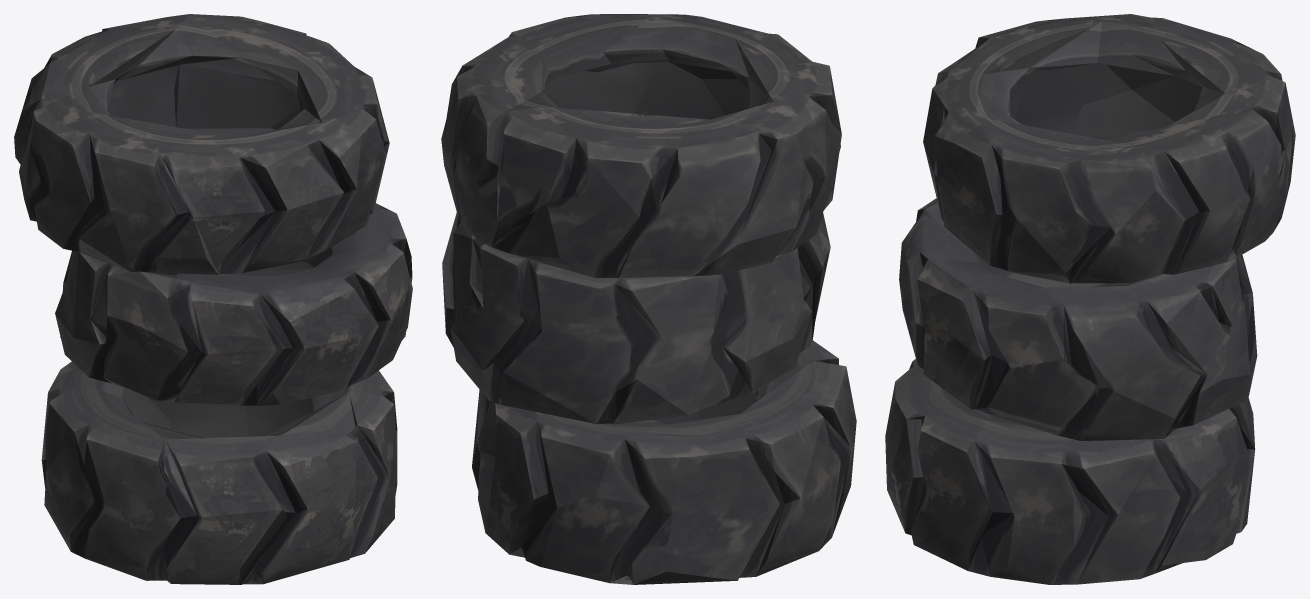
The model's file is tire_stack_1500tri.glb.
3 views of the same model, side by side, from view 1: azimuth 30°, elevation 25°; view 2: azimuth 150°, elevation 25°; view 3: azimuth 270°, elevation 25° (orthographic). The views are drawn at different scales.
Parts seen in each view (by area): view 1: output_unwrapped; view 2: output_unwrapped; view 3: output_unwrapped.
Part boxes in pixels (x1,y1,x2,y2): output_unwrapped: (14, 14, 412, 584); output_unwrapped: (441, 14, 856, 584); output_unwrapped: (885, 14, 1295, 584).
Bounding box in the file's own units: 1.55 × 1.9 × 1.6.
Materials: 1 (1 with a texture image).
